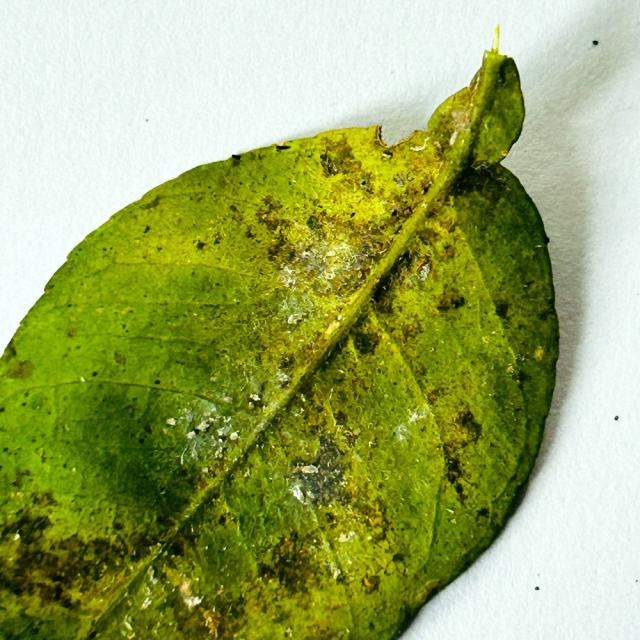Bacterial_Blight: (45, 256, 210, 359), (357, 413, 437, 560), (177, 512, 262, 620), (324, 484, 415, 584), (476, 203, 552, 316), (0, 520, 94, 608), (253, 536, 348, 621), (497, 345, 558, 469), (5, 408, 89, 488), (307, 155, 397, 229), (167, 393, 249, 471), (30, 487, 106, 547), (289, 437, 348, 506), (167, 582, 233, 637), (370, 246, 425, 307), (383, 161, 437, 217), (296, 204, 369, 242), (157, 560, 206, 609), (451, 402, 494, 449), (318, 134, 359, 175), (288, 245, 330, 282), (187, 225, 234, 255), (314, 443, 343, 478), (408, 147, 439, 176), (371, 273, 397, 307), (443, 454, 465, 488), (4, 356, 35, 379), (257, 194, 285, 219), (352, 332, 378, 357), (435, 290, 464, 311), (468, 162, 497, 182), (164, 534, 188, 558), (400, 319, 423, 343), (259, 212, 285, 232), (9, 468, 32, 489), (319, 152, 339, 176), (275, 537, 295, 557), (306, 214, 325, 234), (142, 194, 163, 210), (414, 256, 430, 276), (493, 301, 510, 319), (247, 392, 264, 410), (393, 171, 410, 189), (334, 408, 350, 427), (278, 355, 295, 372), (441, 243, 457, 261), (196, 418, 214, 434), (369, 514, 385, 528), (196, 476, 210, 491), (496, 66, 507, 84), (113, 351, 127, 365), (476, 506, 490, 519), (217, 512, 229, 526), (194, 240, 207, 251), (245, 228, 256, 240), (143, 422, 153, 435), (66, 327, 77, 338), (286, 250, 297, 261), (275, 144, 291, 151), (142, 224, 151, 234), (192, 426, 201, 435), (91, 371, 98, 377), (3, 447, 9, 453), (21, 402, 27, 407), (24, 391, 29, 397)
Lemon: (0, 44, 561, 639)
